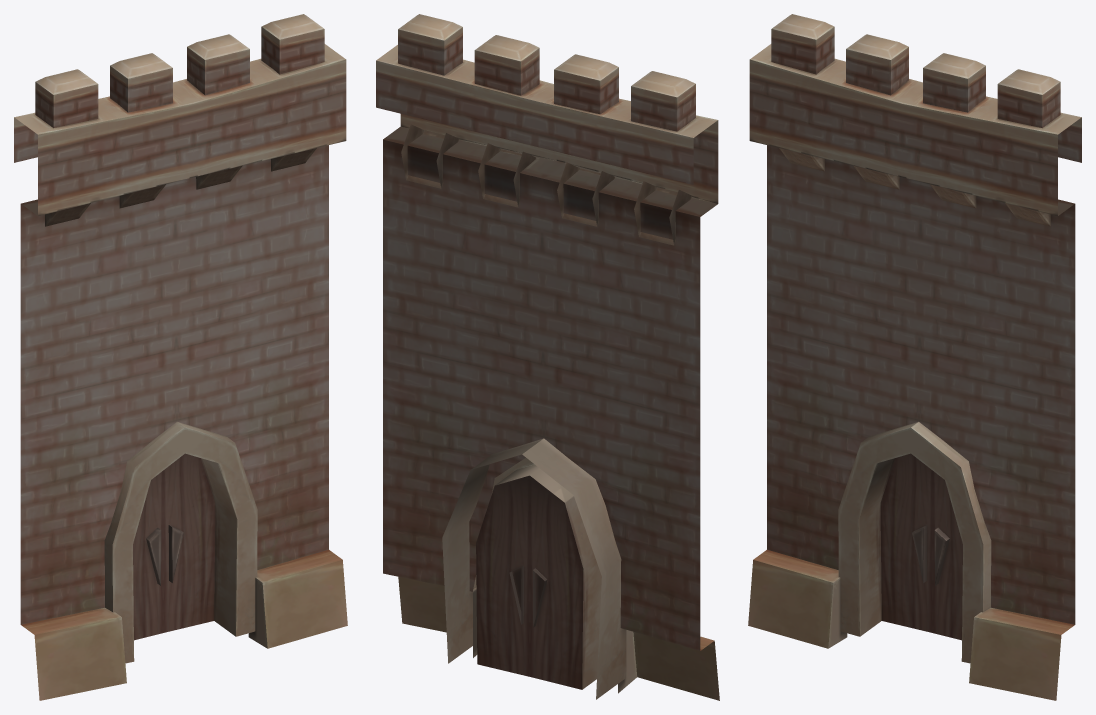
Rendered from castleWalls_bigWall_3_withoutBackSide.FBX.
3 views of the same model, side by side, from view 1: azimuth 30°, elevation 25°; view 2: azimuth 150°, elevation 25°; view 3: azimuth 330°, elevation 25° (orthographic). The views are drawn at different scales.
Visible parts, largest first — view 1: castleWalls_bigWall_3_withoutBackSide; view 2: castleWalls_bigWall_3_withoutBackSide; view 3: castleWalls_bigWall_3_withoutBackSide.
Part boxes in pixels (x1=…): castleWalls_bigWall_3_withoutBackSide: x1=14, y1=14, x2=347, y2=700; castleWalls_bigWall_3_withoutBackSide: x1=376, y1=14, x2=719, y2=700; castleWalls_bigWall_3_withoutBackSide: x1=748, y1=14, x2=1081, y2=700.
Size of the model in its own units: 302 by 567 by 70.28.
1 material, 1 textured.
